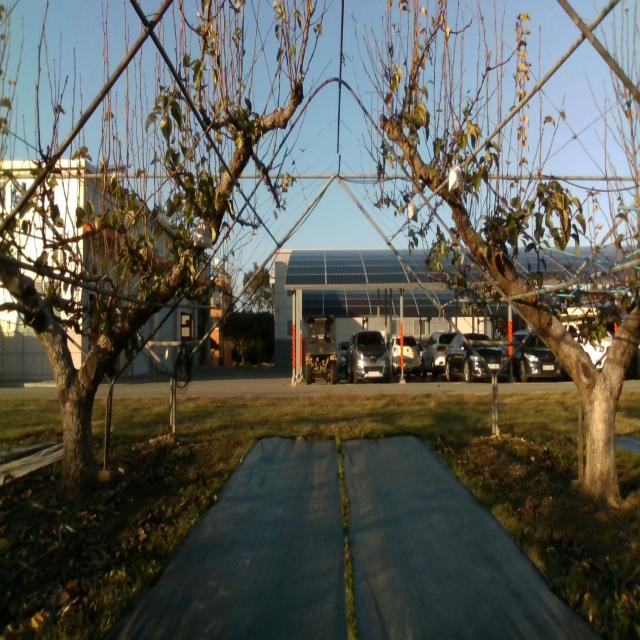pearbags: (193, 220, 214, 249), (448, 160, 464, 194)
